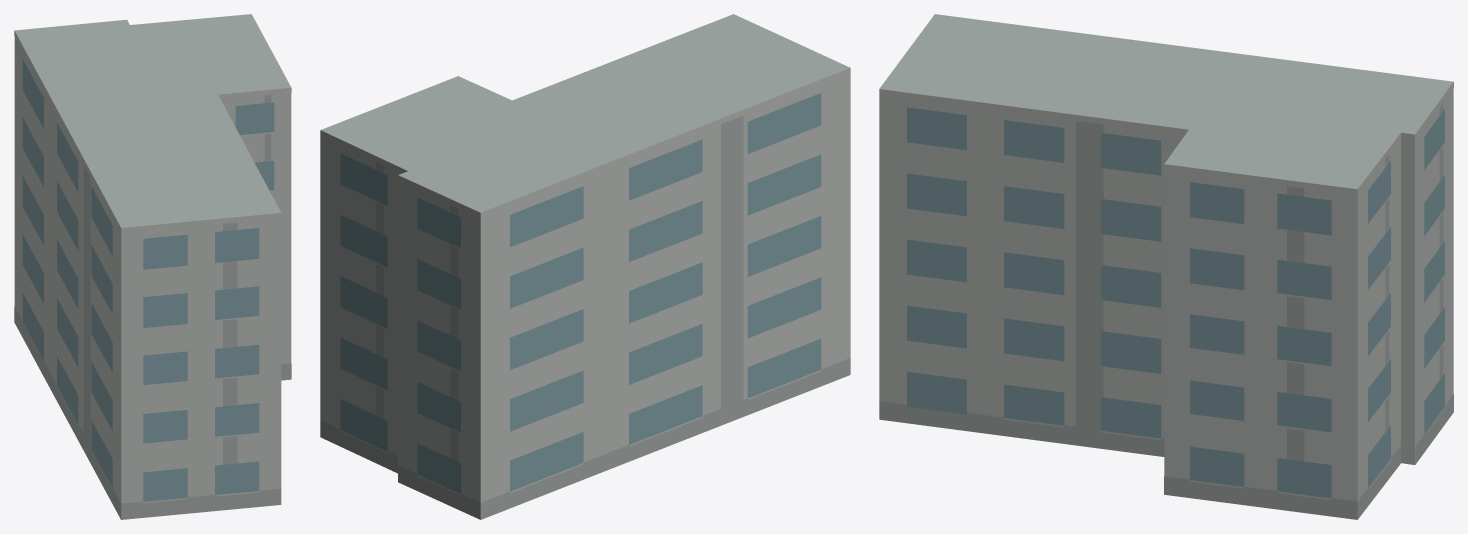
File: survey-upis-32636826.glb
The picture shows the model from 3 angles, left to right: view 1: azimuth 30°, elevation 25°; view 2: azimuth 150°, elevation 25°; view 3: azimuth 270°, elevation 25°; orthographic projection. The views are drawn at different scales.
Parts seen in each view (by area): view 1: survey-upis-32636826.tmp; view 2: survey-upis-32636826.tmp; view 3: survey-upis-32636826.tmp.
Boxes of the visible parts, box(x1,y1,x2,y2) form: survey-upis-32636826.tmp: box(14, 14, 291, 519); survey-upis-32636826.tmp: box(320, 14, 850, 519); survey-upis-32636826.tmp: box(879, 14, 1453, 519).
Bounding box in the file's own units: 15.02 × 13.2 × 20.8.
